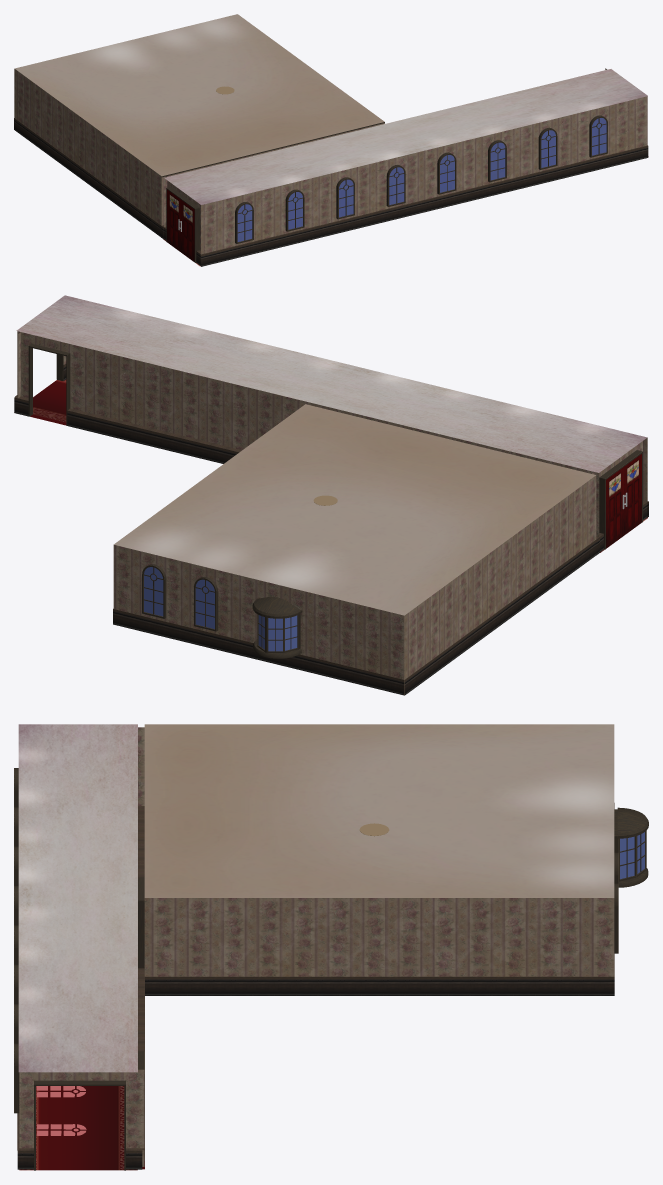
File: koma-corridor.fbx
3 renders of one model, top to bottom at view 1: azimuth 30°, elevation 25°; view 2: azimuth 150°, elevation 25°; view 3: azimuth 270°, elevation 25°, orthographic. The views are drawn at different scales.
Visible parts, largest first — view 1: corridor, enterdoor1, enterdoor2; view 2: corridor, enterdoor2, enterdoor1; view 3: corridor.
Boxes of the visible parts, x1,y1,x2,y2 form: corridor: [14, 14, 648, 266]; enterdoor1: [180, 200, 194, 261]; enterdoor2: [167, 189, 180, 251]; corridor: [14, 295, 648, 695]; enterdoor2: [606, 467, 624, 548]; enterdoor1: [624, 454, 641, 535]; corridor: [14, 724, 648, 1170].
Bounding box in the file's own units: 2670 × 348 × 2045.
